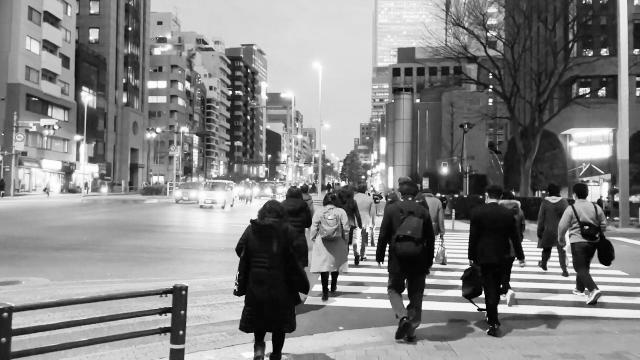berjalan: (232, 194, 306, 360), (376, 178, 436, 344), (466, 186, 526, 340), (560, 178, 612, 310), (313, 186, 349, 308), (529, 173, 567, 284)
